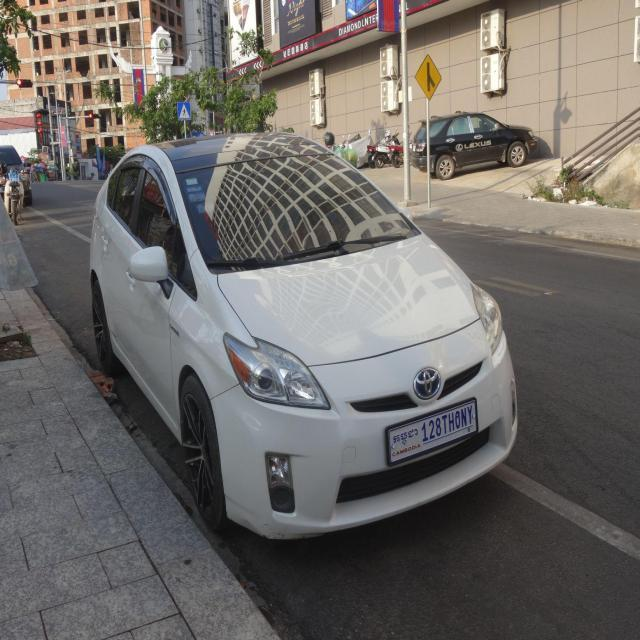Cambodia: (392, 427, 419, 447)
